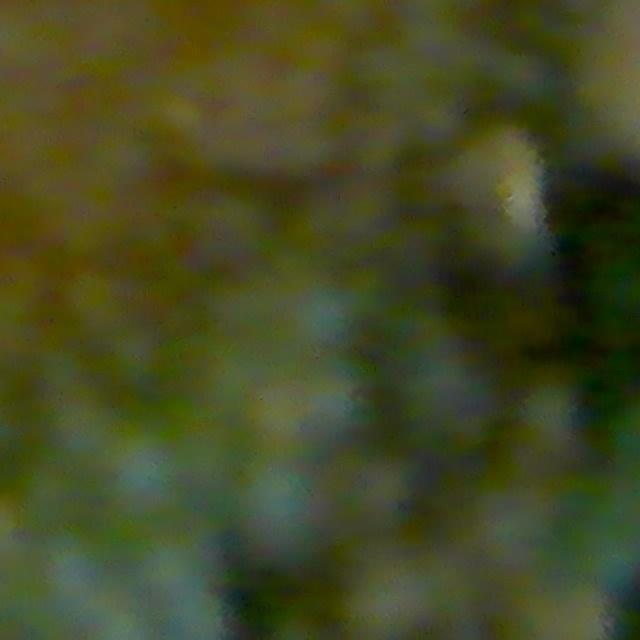SeaGrape: (233, 455, 330, 565), (33, 526, 118, 630), (103, 424, 190, 516)
